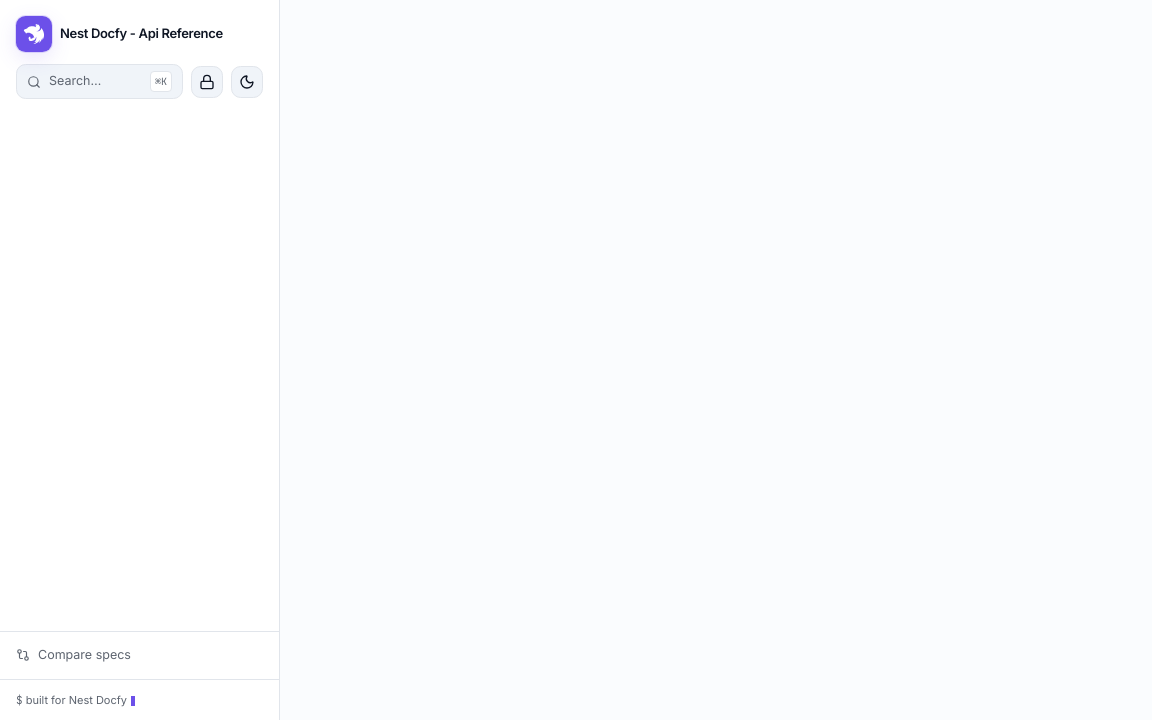
Test: <Sidebar /> › Authorize › opens the Authorize dialog, listing every declared scheme
Click the button named "Authorize".
click(207, 82)  # box [191, 66, 223, 98]
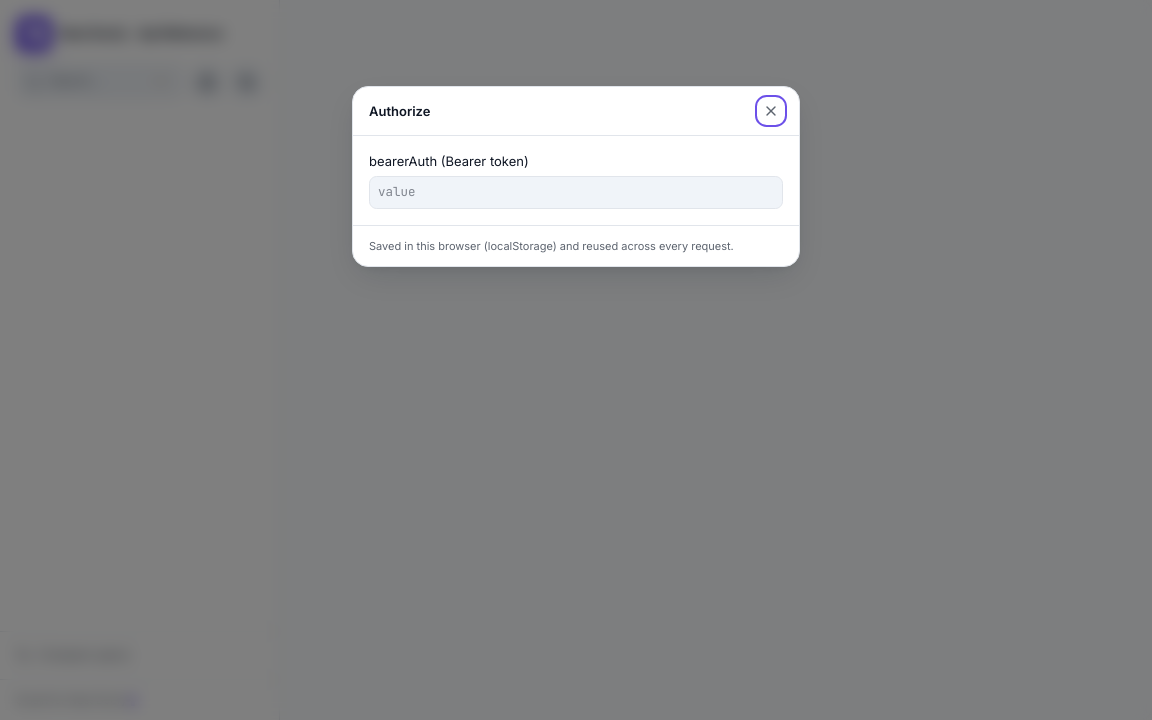
Expected: the text "bearerAuth (Bearer token)" is shown, [369, 152, 783, 209]
